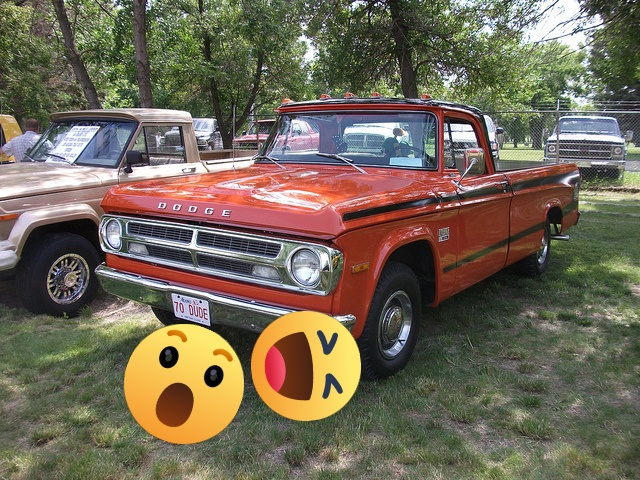haha: (251, 311, 361, 421)
wow: (124, 324, 244, 444)
